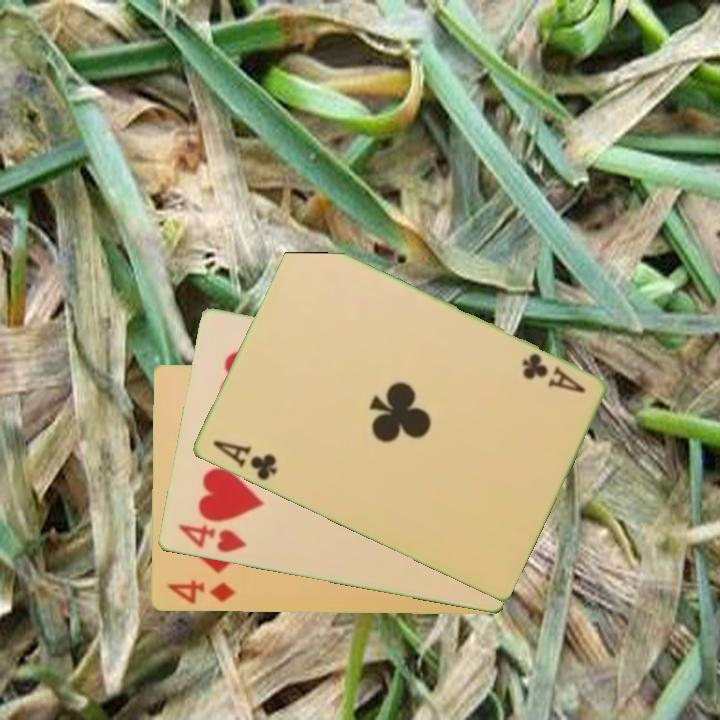4d: (162, 576, 238, 607)
4h: (174, 521, 249, 556)
Ac: (208, 436, 280, 484), (517, 350, 588, 397)
